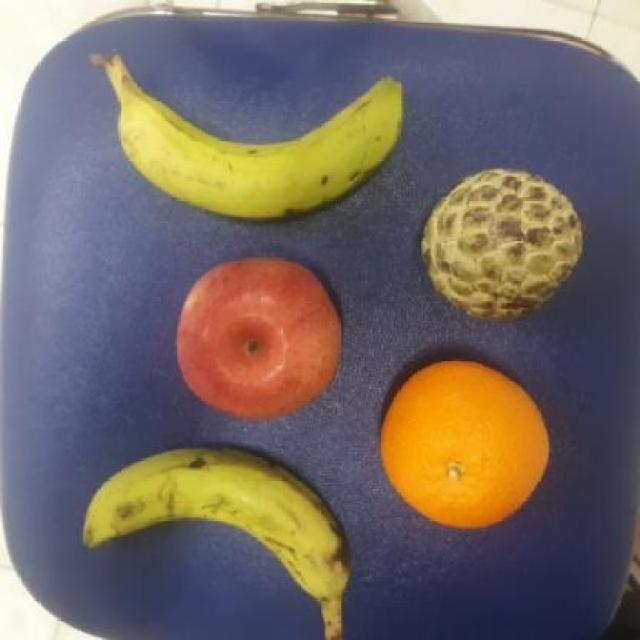apple: (172, 251, 346, 418)
banana: (112, 69, 403, 225), (80, 442, 352, 604)
oren: (372, 360, 553, 528)
sugar apple: (413, 164, 592, 324)
